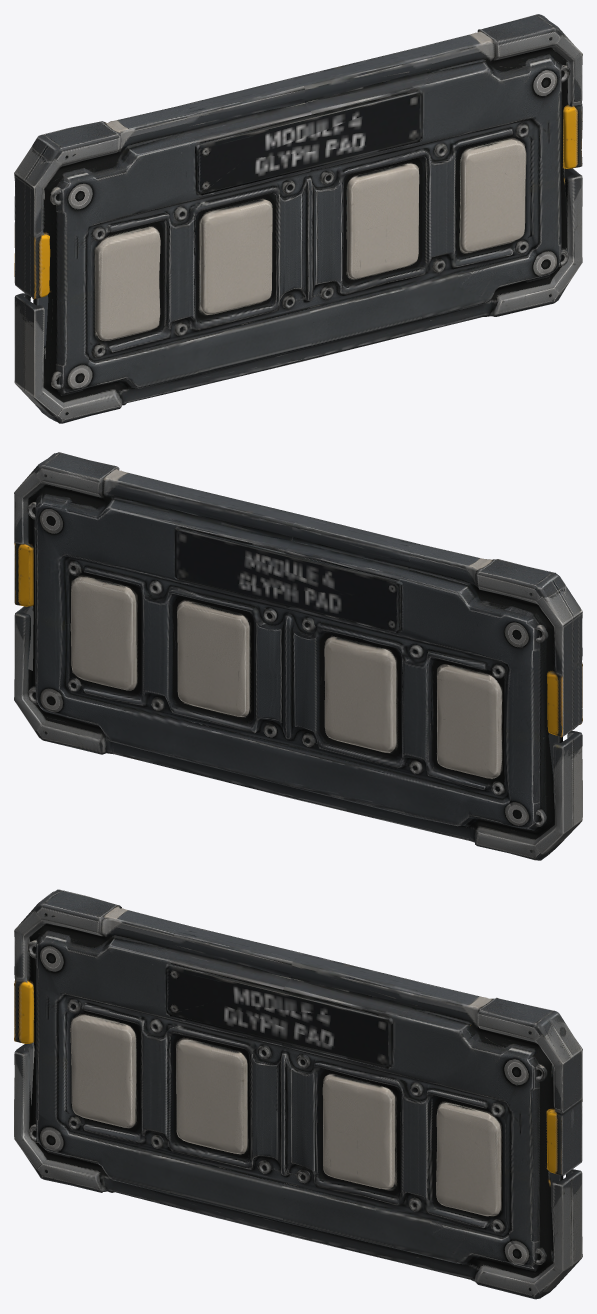
File: GlyphBox.glb
3 views of the same model, one above another, from view 1: azimuth 30°, elevation 25°; view 2: azimuth 150°, elevation 25°; view 3: azimuth 330°, elevation 25° (orthographic).
Size of the model in its own units: 1 by 0.4824 by 0.1003.
Materials: 1 (1 with a texture image).
